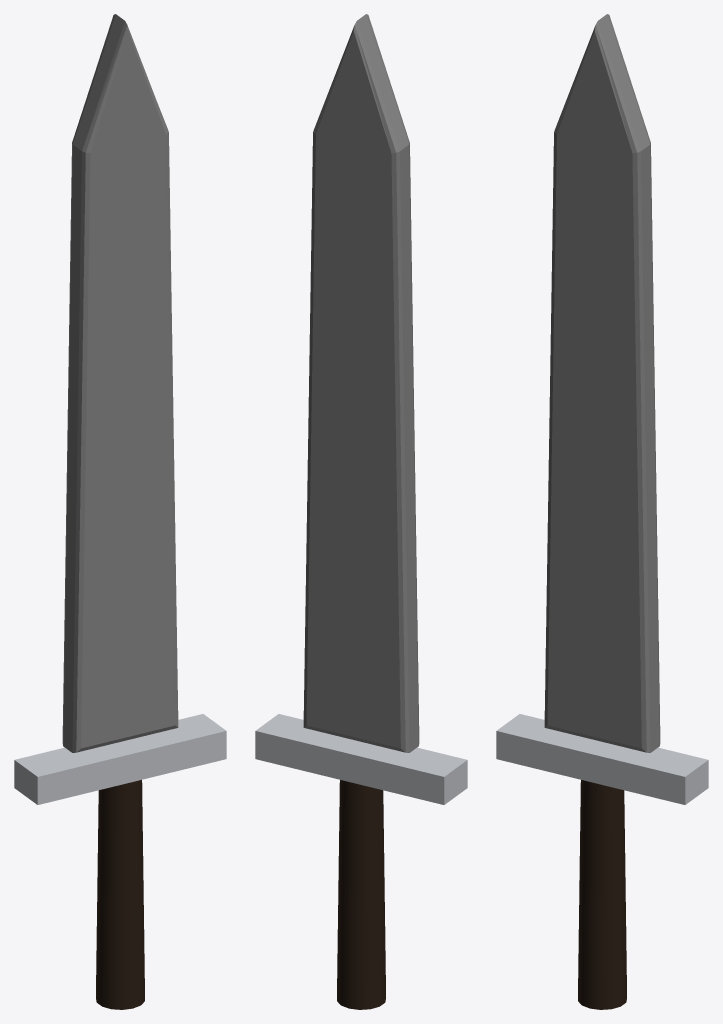
File: stone_sword.glb
3 renders of one model, left to right at view 1: azimuth 30°, elevation 25°; view 2: azimuth 150°, elevation 25°; view 3: azimuth 330°, elevation 25°, orthographic.
Parts seen in each view (by area): view 1: blade, grip, guard; view 2: blade, grip, guard; view 3: blade, grip, guard.
Part boxes in pixels (x1,y1,x2,y2): blade: (62,14,178,752); grip: (96,780,144,1009); guard: (14,714,226,804); blade: (303,14,419,752); grip: (337,780,385,1009); guard: (255,714,467,804); blade: (544,14,660,752); grip: (578,780,626,1009); guard: (496,714,708,804).
Bounding box in the file's own units: 0.14 × 0.6957 × 0.032.
